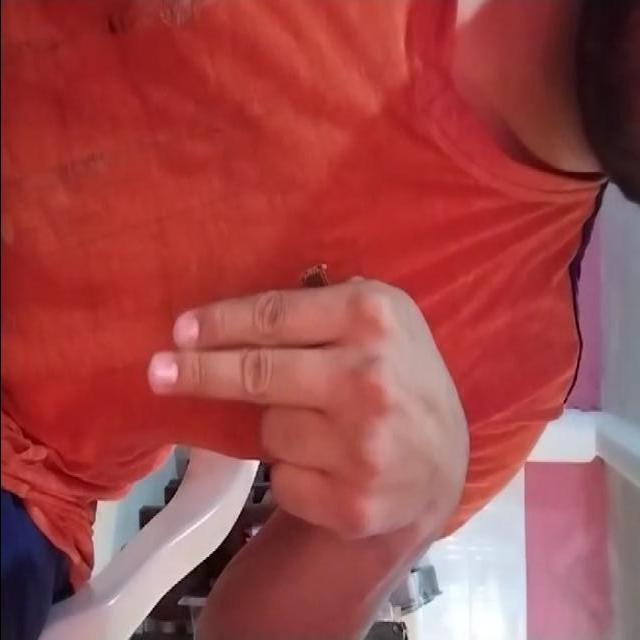N: (119, 259, 506, 561)
